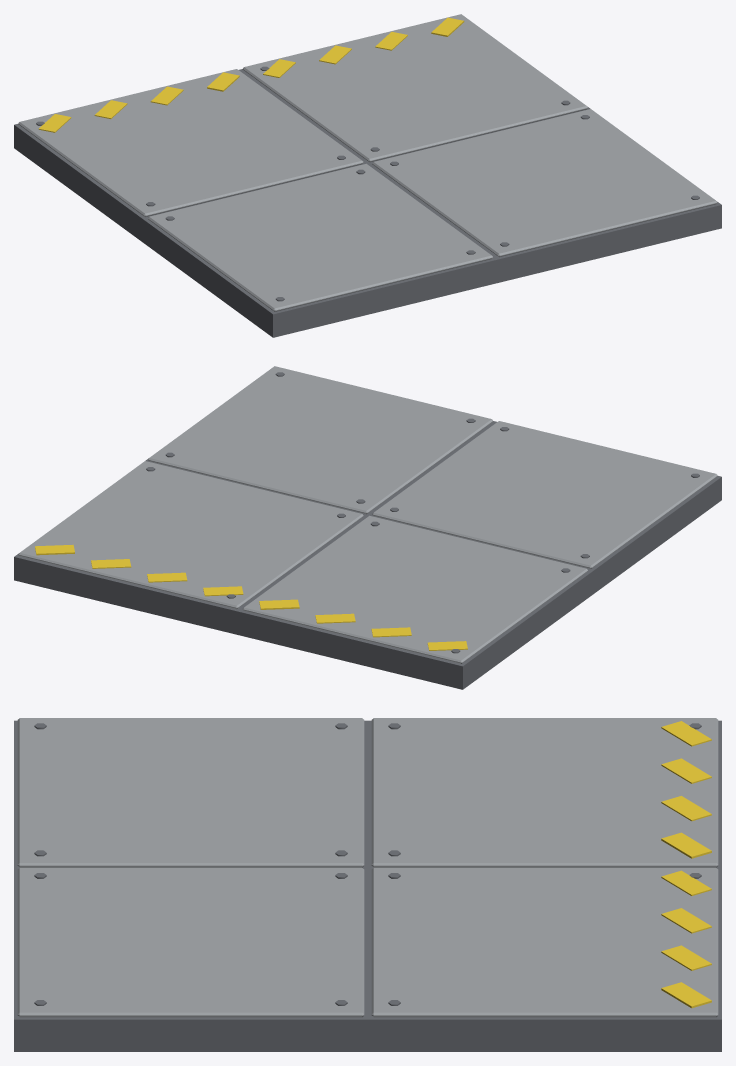
File: floor_hm_steel2.glb
3 views of the same model, one above another, from view 1: azimuth 30°, elevation 25°; view 2: azimuth 150°, elevation 25°; view 3: azimuth 270°, elevation 25° (orthographic). The views are drawn at different scales.
Parts seen in each view (by area): view 1: floor_hm_steel2; view 2: floor_hm_steel2; view 3: floor_hm_steel2.
Boxes of the visible parts, x1,y1,x2,y2 form: floor_hm_steel2: [14, 14, 721, 337]; floor_hm_steel2: [14, 366, 721, 689]; floor_hm_steel2: [14, 718, 721, 1051].
Size of the model in its own units: 4 by 0.242 by 4.
